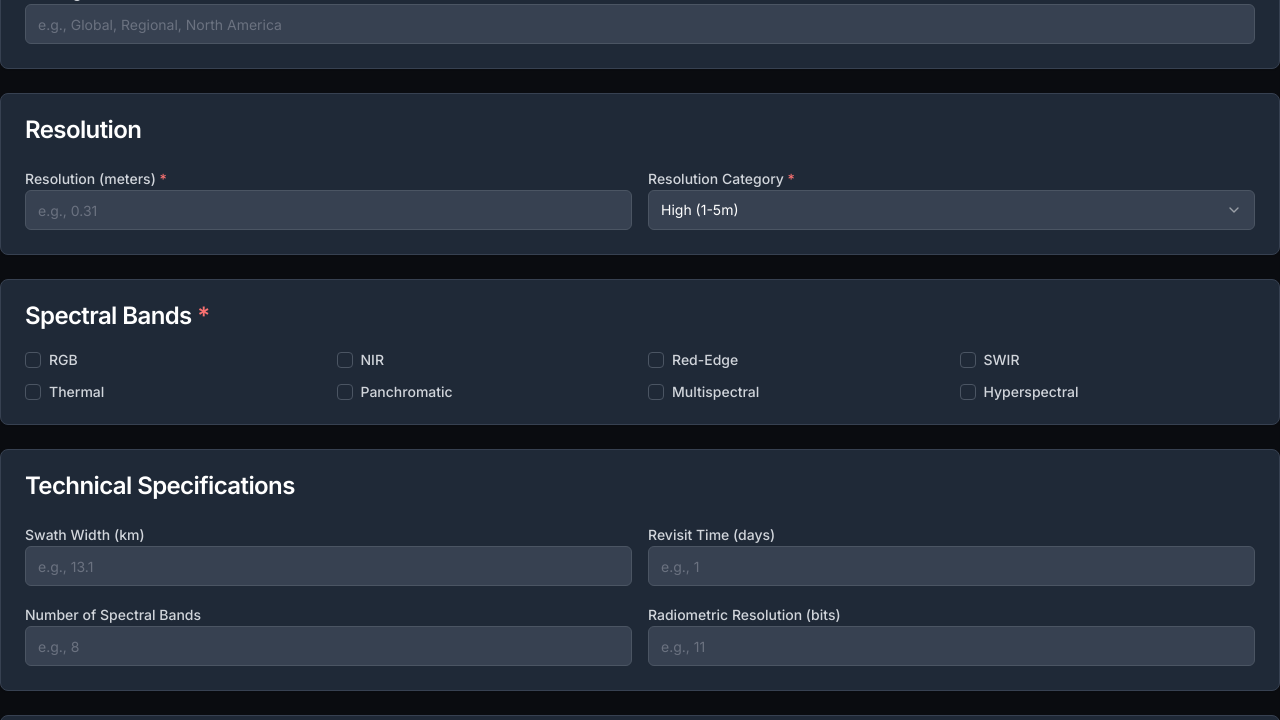
Test: SatelliteProductForm › allows selecting multiple bands
(page scrolled)
Click the checkbox named "RGB" next to "RGB": (33, 360) [25,352,41,368]
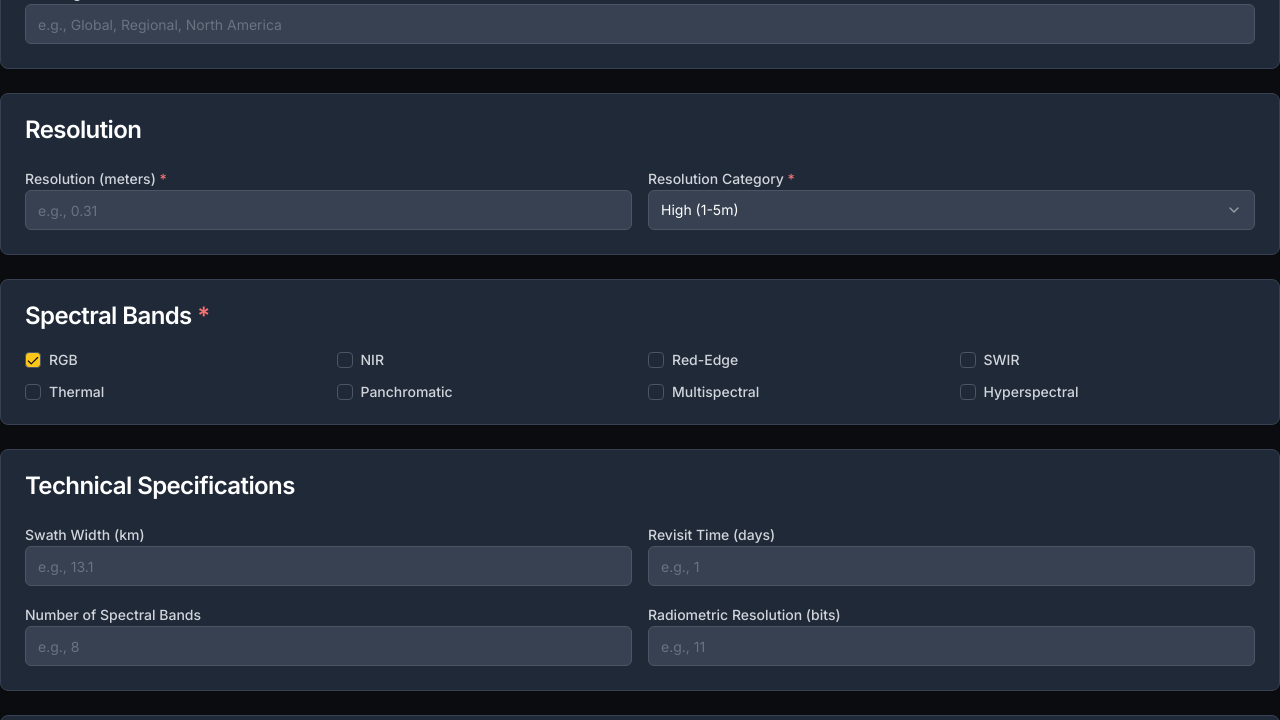
Click the checkbox named "NIR" next to "NIR": (344, 360) [336,352,352,368]
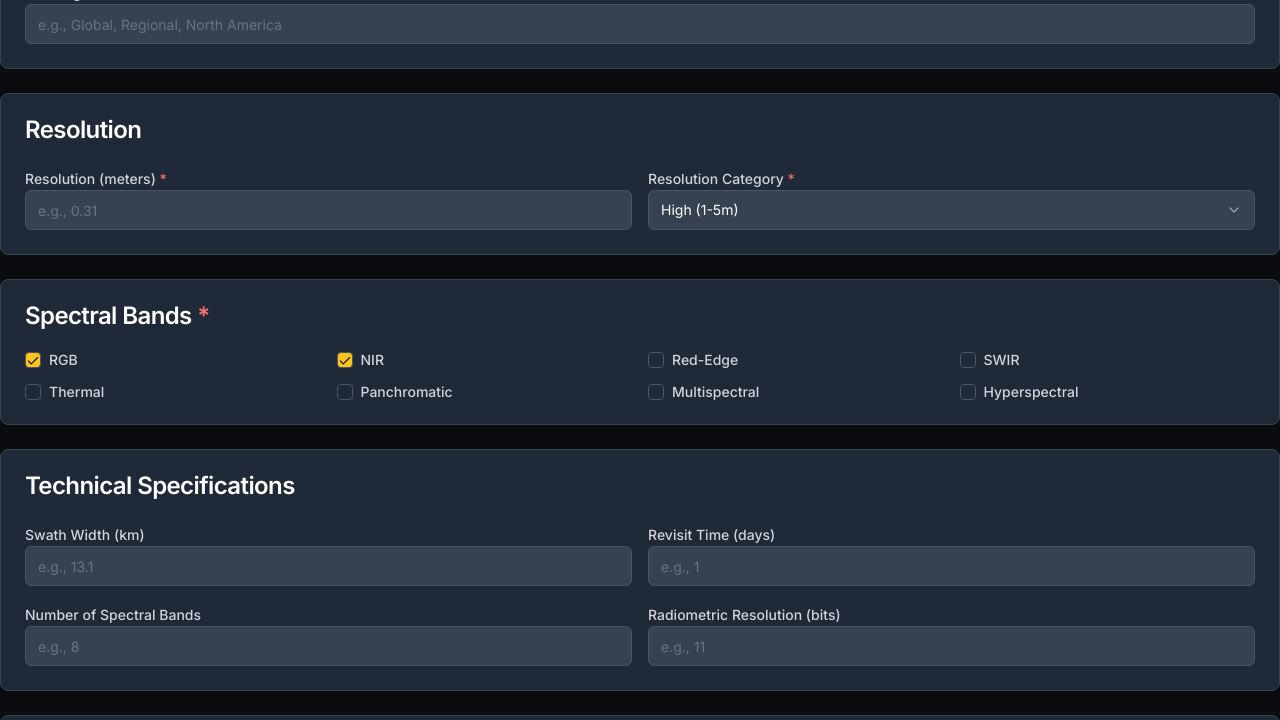
Expected: the checkbox named "RGB" next to "RGB" is checked, [25,352,41,368]
Expected: the checkbox named "NIR" next to "NIR" is checked, [336,352,352,368]
